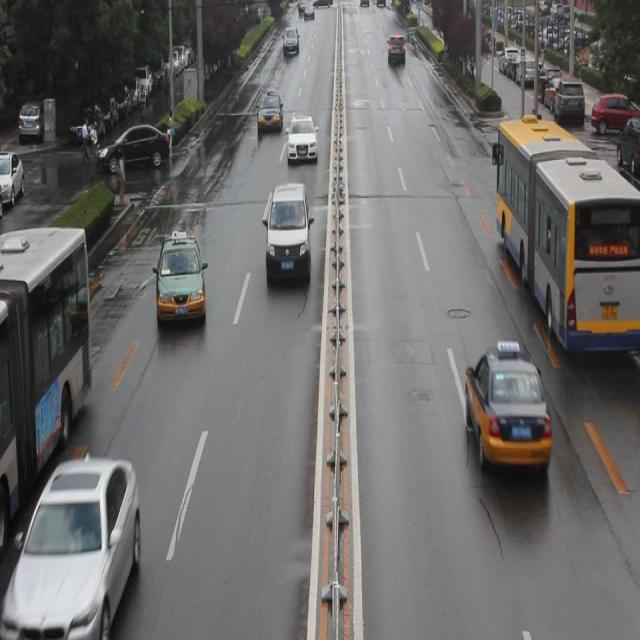car: (10, 461, 140, 631), (465, 340, 550, 477), (154, 232, 204, 324), (98, 127, 170, 170), (286, 119, 316, 161), (256, 90, 281, 134)
truck: (265, 183, 311, 286)
van: (493, 122, 640, 358), (1, 227, 93, 543)
